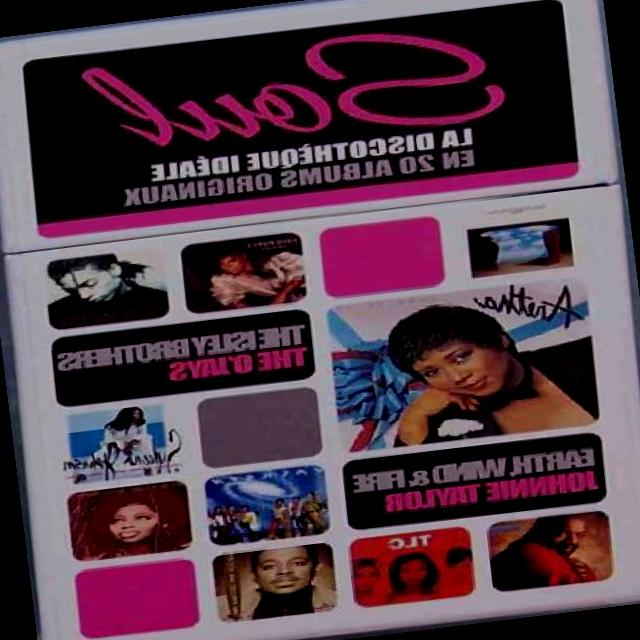Person: (368, 286, 604, 452), (40, 246, 172, 332), (213, 536, 333, 627), (67, 485, 194, 561), (484, 512, 593, 592), (204, 234, 310, 312), (202, 488, 334, 548), (85, 404, 160, 480), (379, 550, 451, 608), (443, 542, 482, 600), (350, 556, 386, 613)
